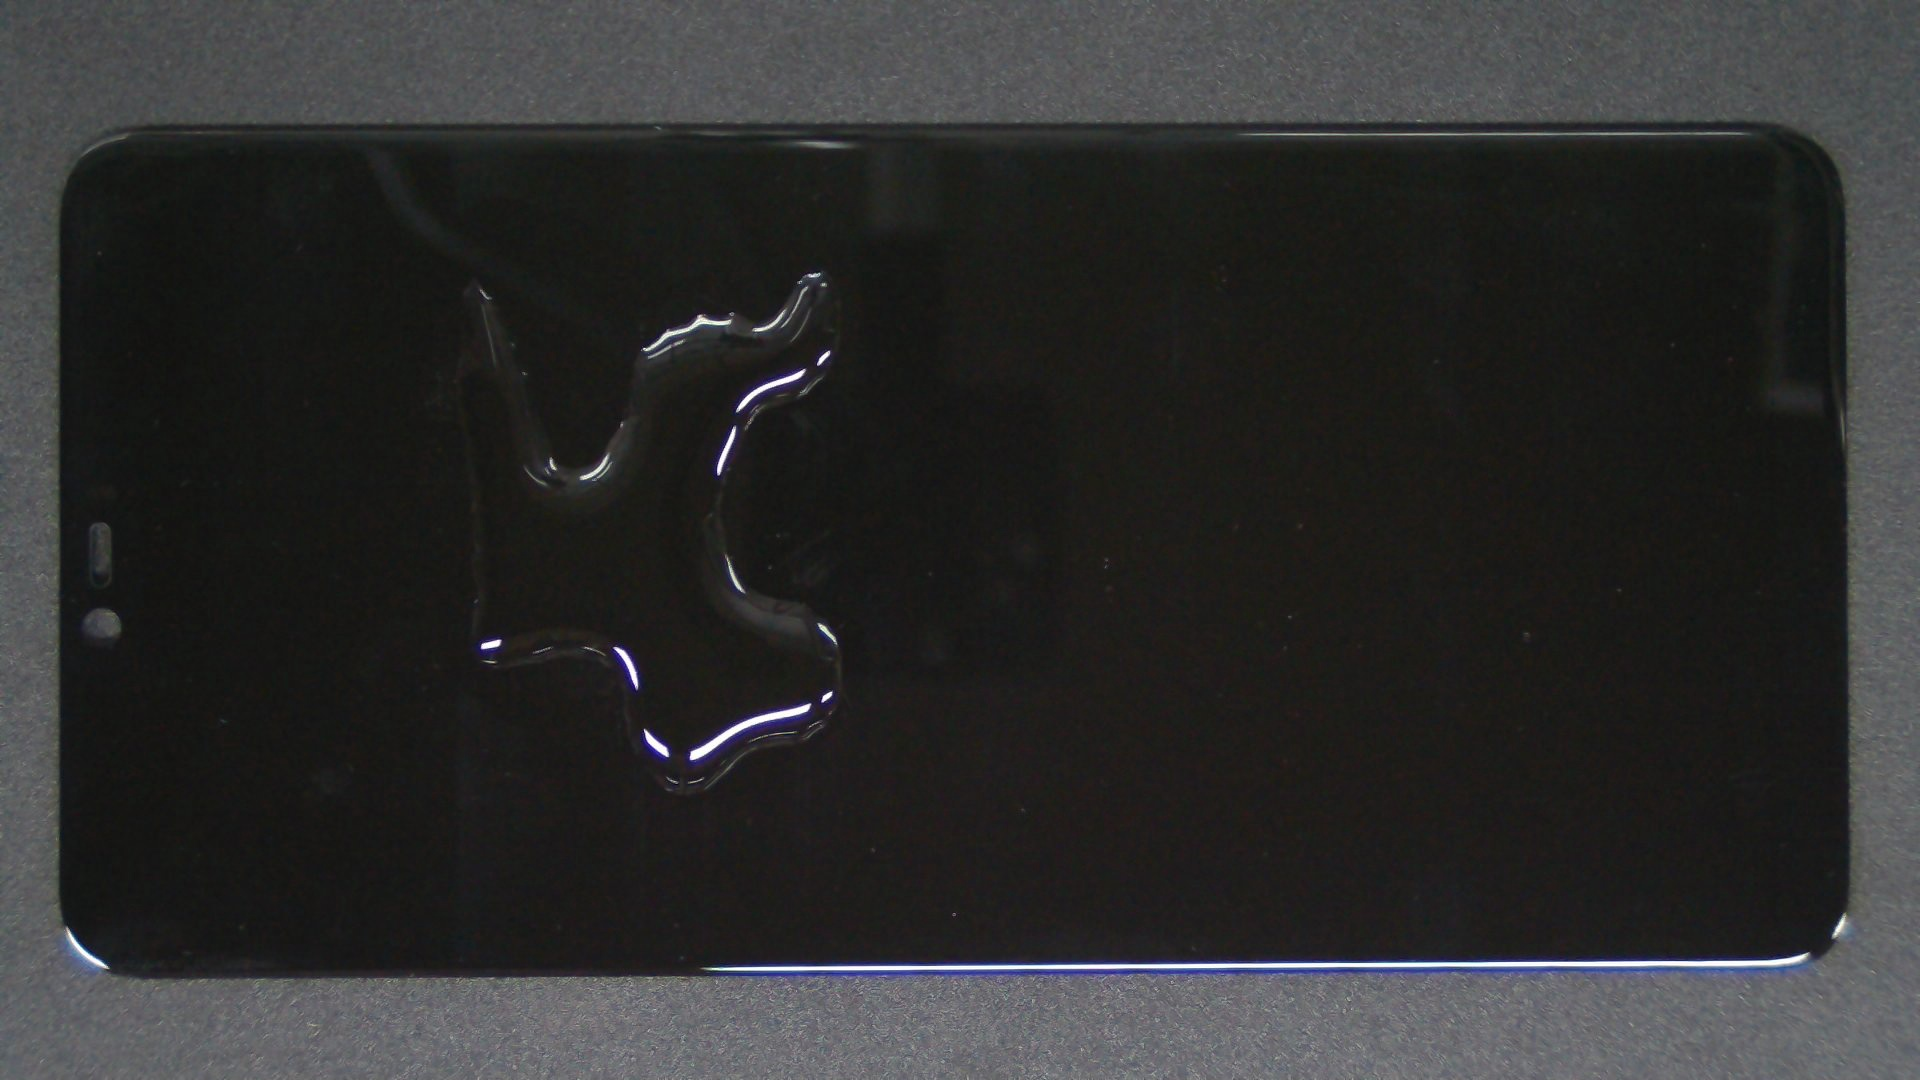oil: (406, 135, 1217, 407)
